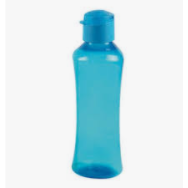Bottle: (73, 11, 123, 179)
